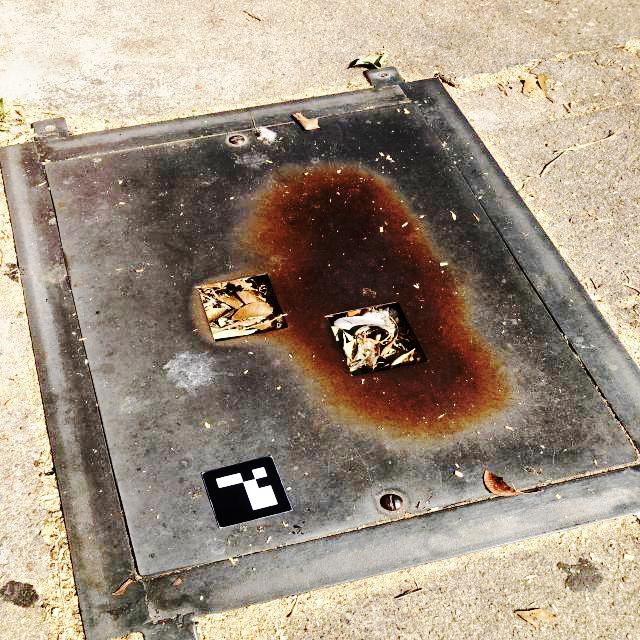Corrosion: (247, 168, 506, 445), (199, 291, 214, 339), (206, 274, 257, 285), (380, 494, 404, 512), (229, 135, 245, 144)
